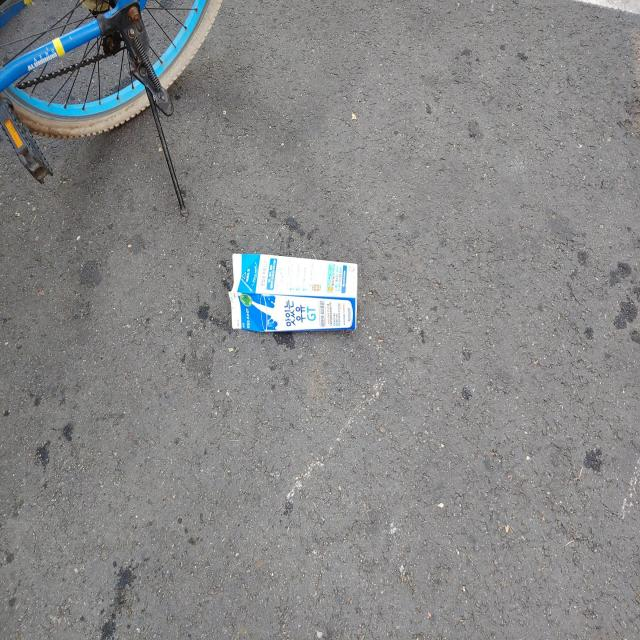paperpack: (229, 254, 357, 332)
